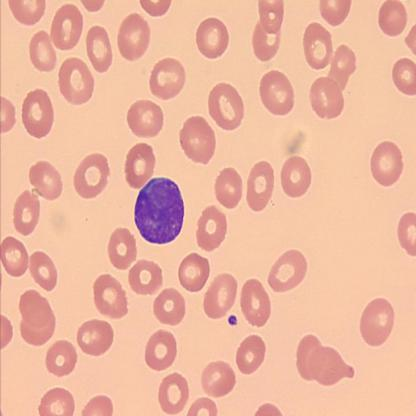Blast: (133, 175, 186, 247)
